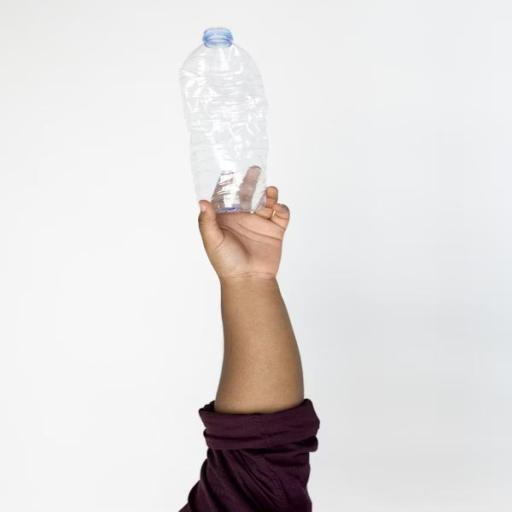bottle: (174, 19, 280, 226)
